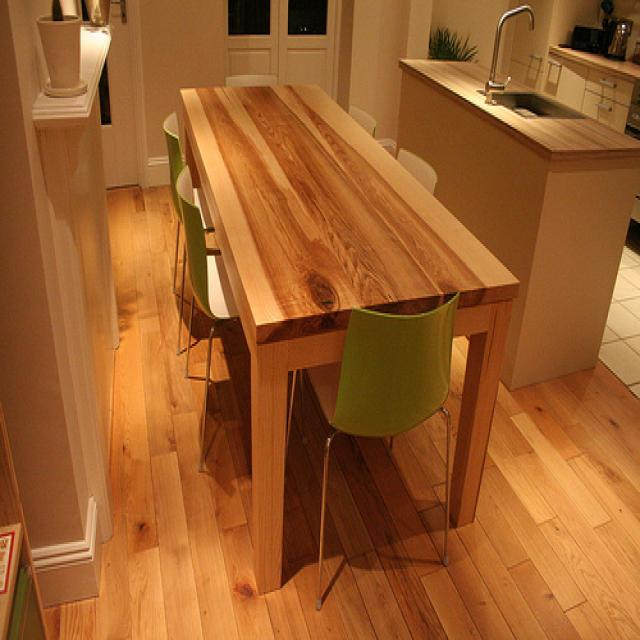table: (178, 80, 522, 597)
